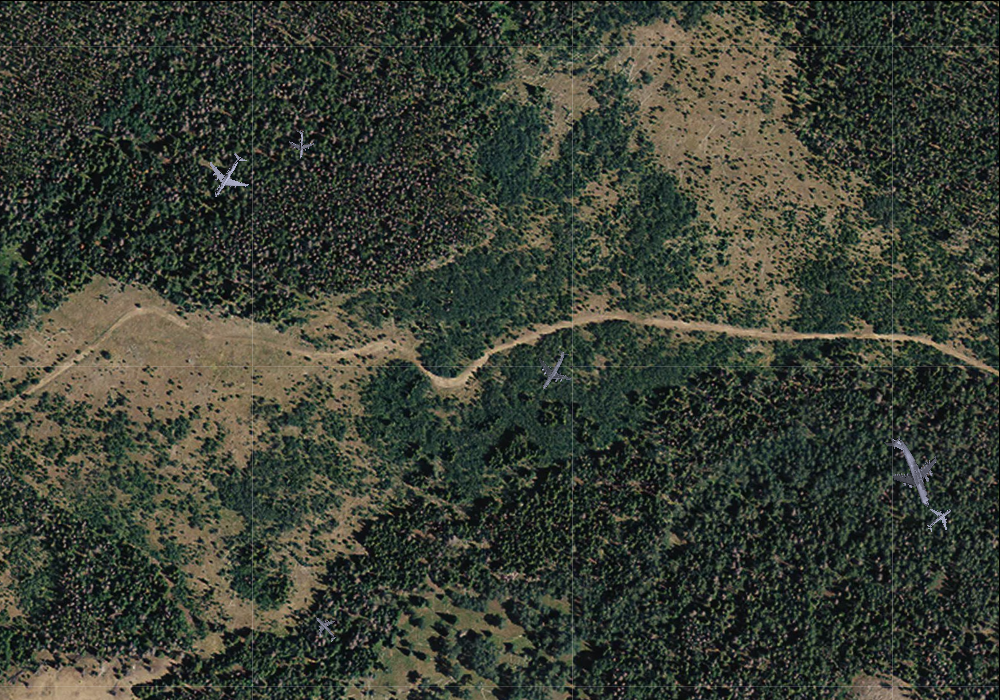plane: (867, 424, 954, 519), (195, 143, 260, 209), (524, 340, 583, 400), (919, 498, 960, 539), (305, 609, 344, 648), (285, 128, 315, 159)
